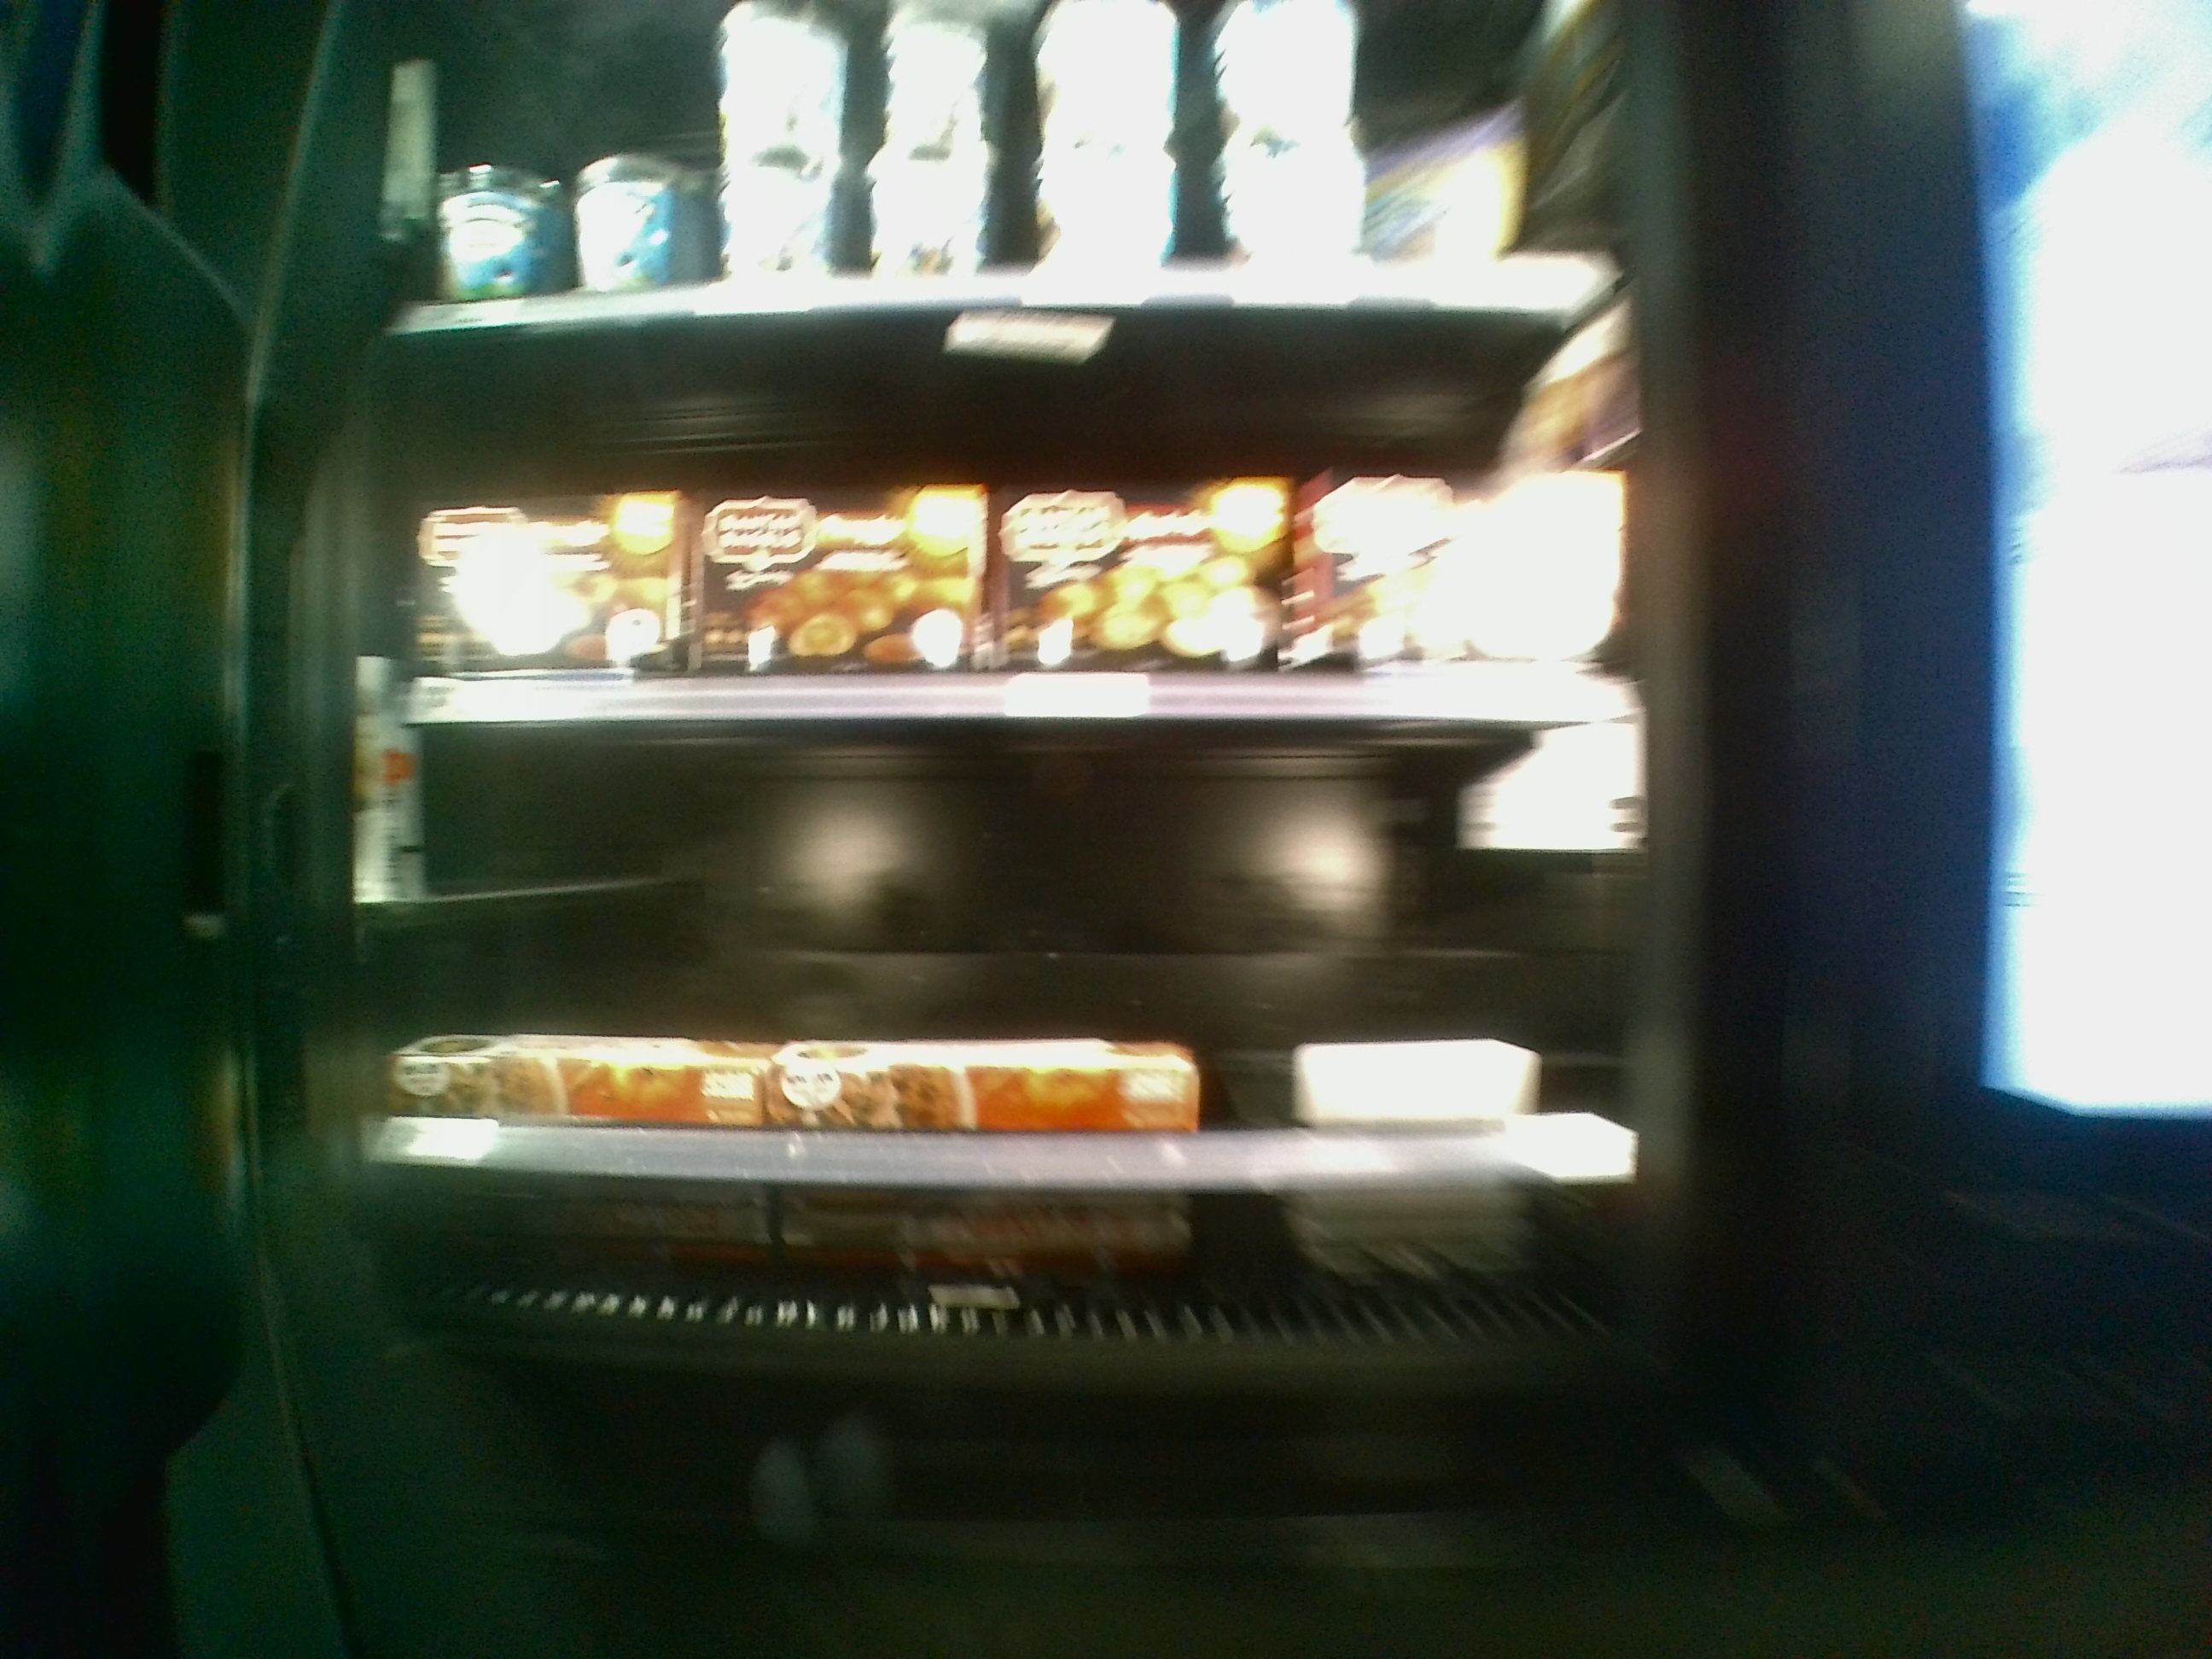shelf: (361, 688, 1602, 1176), (399, 321, 1630, 732)
